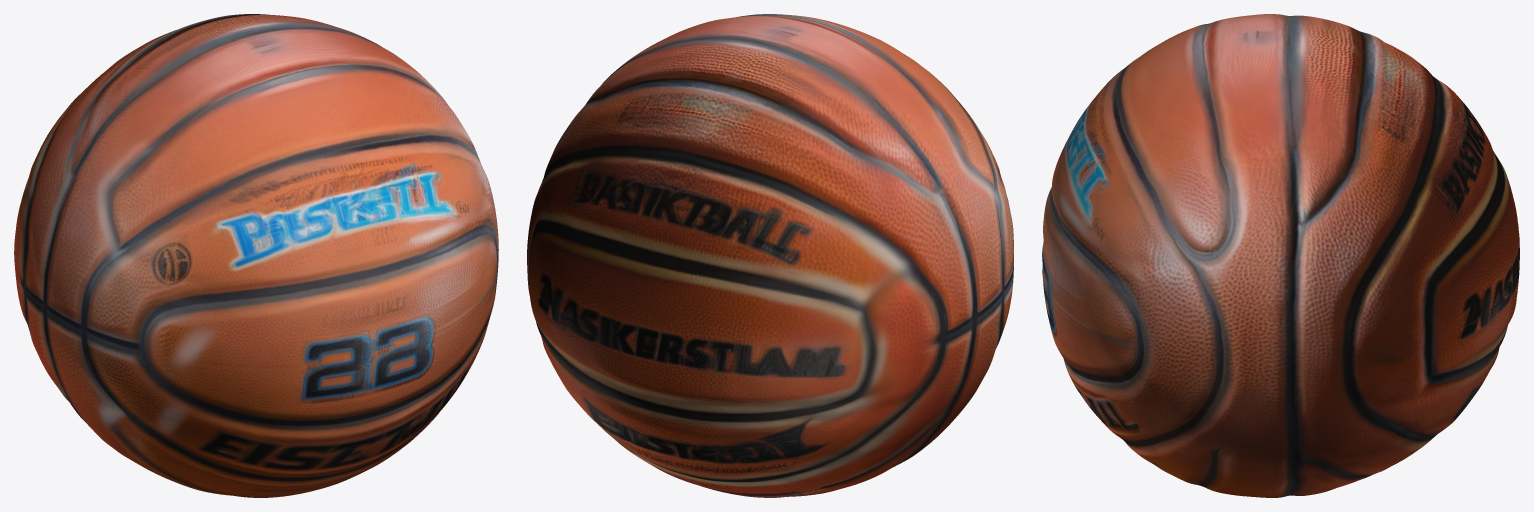
Rendered from 5aab51c7-77ab-4217-8355-6062b9a60b14.glb.
3 renders of one model, left to right at view 1: azimuth 30°, elevation 25°; view 2: azimuth 150°, elevation 25°; view 3: azimuth 270°, elevation 25°, orthographic.
Size of the model in its own units: 2 by 2 by 1.98.
1 material, 1 textured.
